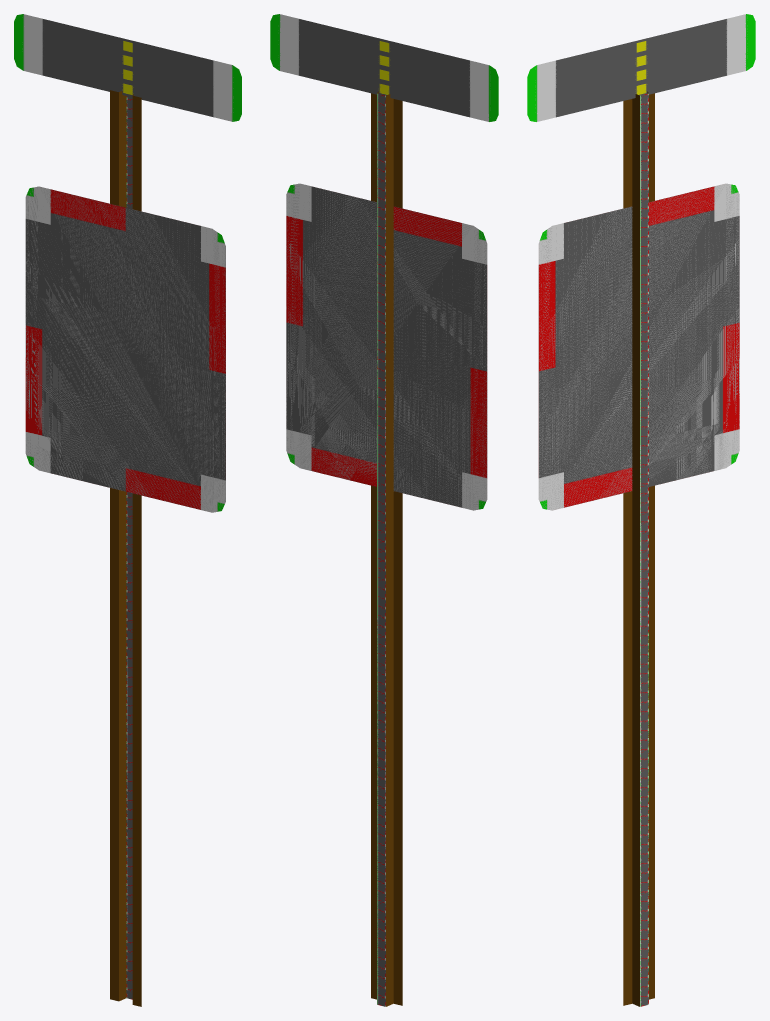
The model's file is williams-sign.dae.
3 renders of one model, left to right at view 1: azimuth 30°, elevation 25°; view 2: azimuth 210°, elevation 25°; view 3: azimuth 270°, elevation 25°, orthographic.
Visible parts, largest first — view 1: skp2a26 (×2), Component6_2 (×2), Component3_2 (×2), Component4_2, Component1_2; view 2: skp2a26 (×2), Component1_2, Component4_2, Component3_2 (×2), Component6_2 (×2); view 3: skp2a26 (×2), Component1_2, Component7_2, Component6_2 (×2), Component3_2 (×2).
Boxes of the visible parts, <box> form: skp2a26 (×2): <box>14,14,241,512</box>; Component6_2 (×2): <box>132,95,141,1006</box>; Component3_2 (×2): <box>110,90,118,1001</box>; Component4_2: <box>119,91,126,1001</box>; Component1_2: <box>126,96,132,999</box>; skp2a26 (×2): <box>270,14,498,510</box>; Component1_2: <box>377,93,385,1006</box>; Component4_2: <box>386,94,393,1006</box>; Component3_2 (×2): <box>393,99,402,1005</box>; Component6_2 (×2): <box>371,93,376,999</box>; skp2a26 (×2): <box>527,14,755,510</box>; Component1_2: <box>640,93,648,1006</box>; Component7_2: <box>632,94,639,1006</box>; Component6_2 (×2): <box>623,99,632,1005</box>; Component3_2 (×2): <box>649,93,654,999</box>.
Size of the model in its own units: 12.58 by 21.79 by 102.
